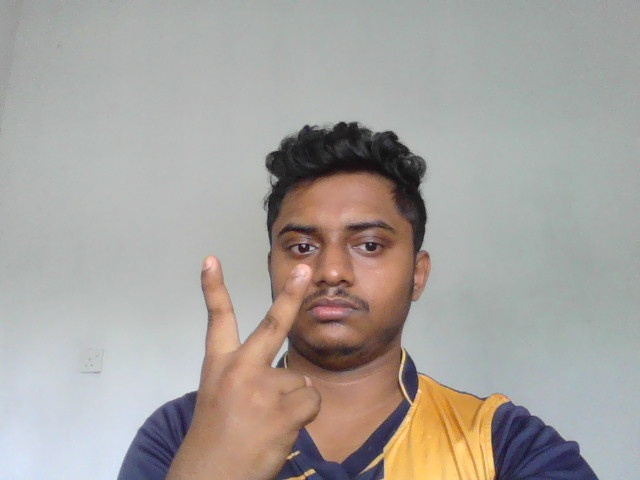See You: (182, 254, 326, 480)
